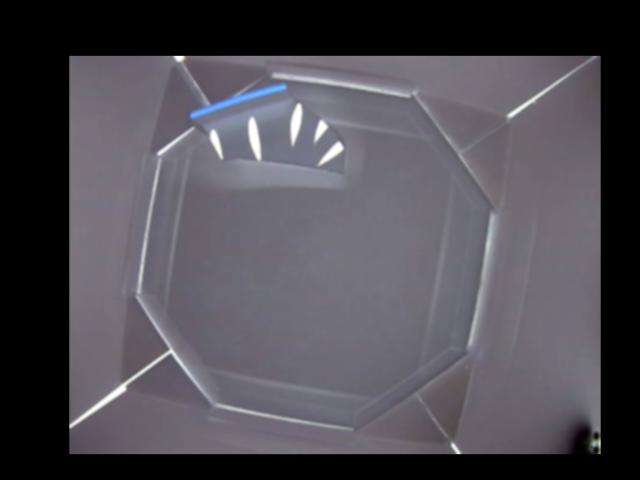China: (190, 81, 344, 176)
